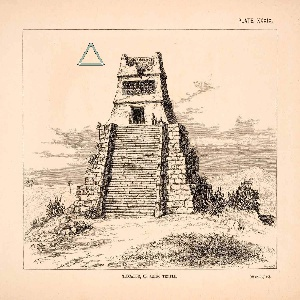triangle: (75, 40, 107, 68)
